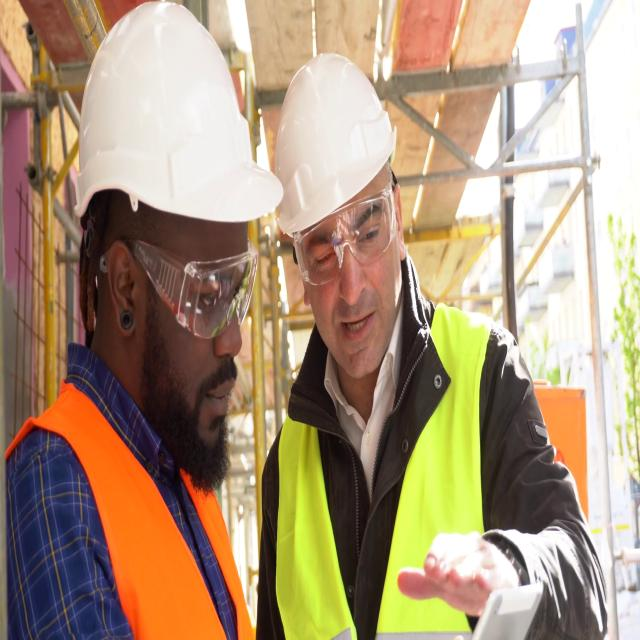goggles: (99, 237, 260, 333), (293, 172, 397, 291)
helmet: (74, 2, 284, 226), (274, 48, 398, 240)
